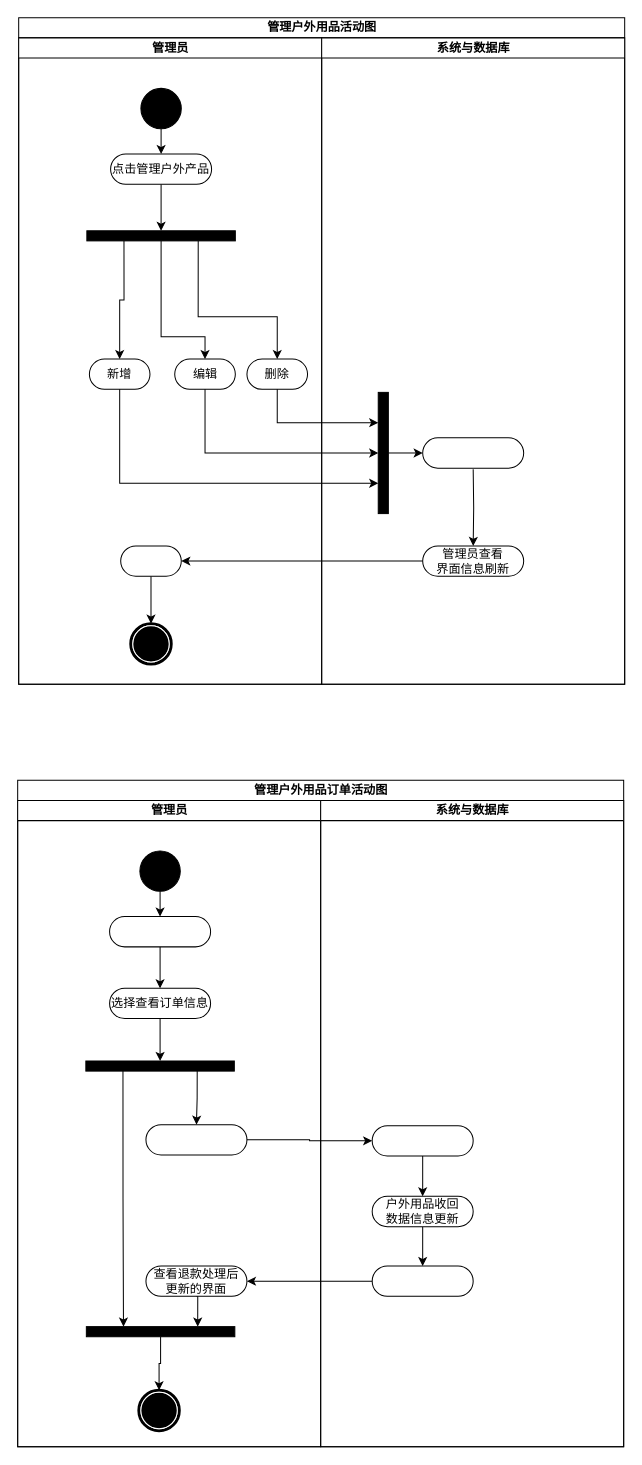
The diagram is 642 pixels wide and 1465 high, and some of its shapes have lost their labels. The centre of each missing label's shape, as x and y in pixels:
"处理退款操作" goes at [196,1139].
"户外用品信息更新" goes at [473,452].
"更新管理员户外用品订单处理页面" goes at [422,1280].
"查看" goes at [150,560].
"点击管理 户外产品订单" goes at [160,931].
"钱款退回 租赁者账户" goes at [422,1140].
